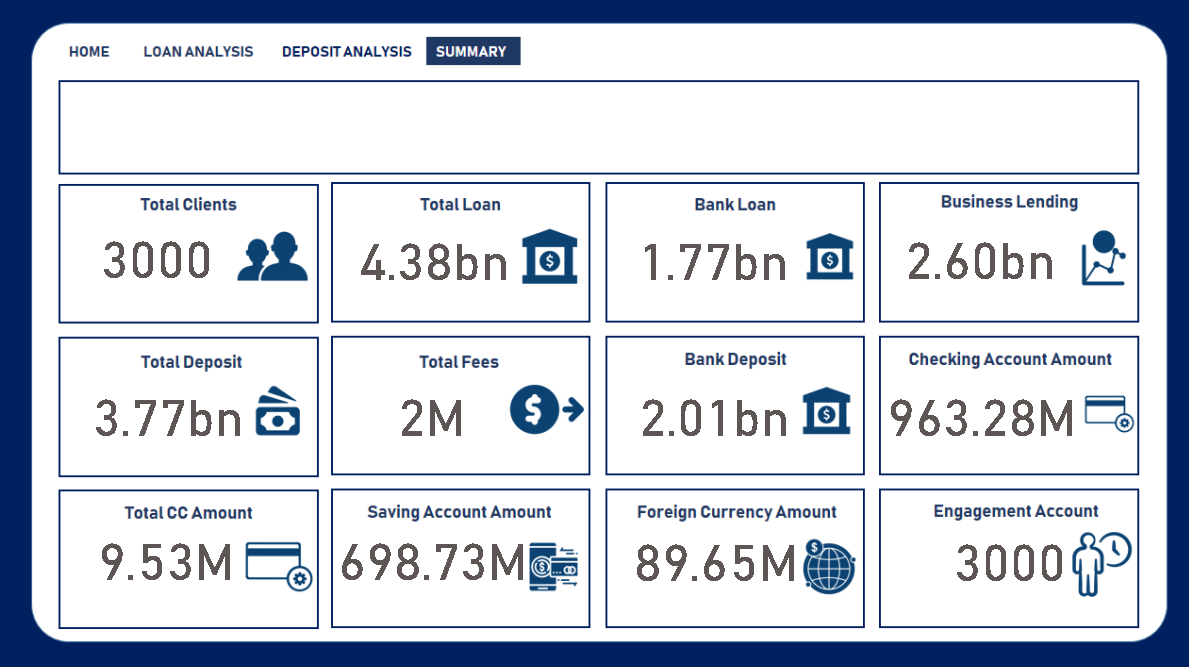

The dashboard page shown, as its layout file describes it:
{"tool":"powerbi","page":{"name":"summary","canvas":[1280,720],"ordinal":3},"visuals":[{"type":"card","fields":{"Values":["Sum(banking_pro customer.Bank Loans)"]},"box":[669,219.2,189,109.6],"z":1},{"type":"card","fields":{"Values":["Sum(banking_pro customer.Business Lending)"]},"box":[931.7,198.4,228.7,149.3],"z":2},{"type":"card","fields":{"Values":["banking_pro customer.total_deposit"]},"box":[54.8,374.2,262.7,132.3],"z":3},{"type":"card","fields":{"Values":["Sum(banking_pro customer.Bank Deposits)"]},"box":[633.1,374.2,262.7,132.3],"z":4},{"type":"card","fields":{"Values":["Sum(banking_pro customer.Checking Accounts)"]},"box":[941.1,374.2,211.7,132.3],"z":5},{"type":"card","fields":{"Values":["Sum(banking_pro customer.Saving Accounts)"]},"box":[359.1,527.2,211.7,132.3],"z":6},{"type":"card","fields":{"Values":["Sum(banking_pro customer.Credit Card Balance)"]},"box":[54.8,548,258.9,88.8],"z":7},{"type":"card","fields":{"Values":["Sum(banking_pro customer.Foreign Currency Account)"]},"box":[659.5,540.5,211.7,105.8],"z":8},{"type":"card","fields":{"Values":["CountNonNull(banking_pro customer.ï»¿Client ID)"]},"box":[30.2,219.2,287.2,105.8],"z":9},{"type":"card","fields":{"Values":["banking_pro customer.total_loan"]},"box":[317.5,226.8,300.5,94.5],"z":10},{"type":"card","fields":{"Values":["banking_pro customer.total_fees"]},"box":[400.6,389.3,128.5,100.2],"z":11},{"type":"card","fields":{"Values":["banking_pro customer.total_engaged"]},"box":[971.3,540.5,211.7,105.8],"z":12},{"type":"actionButton","box":[54.1,42.9,76.3,31.8],"z":13},{"type":"actionButton","box":[152.7,35,125.7,47.7],"z":14},{"type":"actionButton","box":[299,35,149.5,47.7],"z":15}]}

Visuals, with their boxes in screenshot pixels (x1, y1, x2, y2), scaled from the page's 1280x720 canvas onto the 1189x667 screenshot:
card - Sum(banking_pro customer.Bank Loans): <region>621, 203, 797, 305</region>
card - Sum(banking_pro customer.Business Lending): <region>865, 184, 1078, 322</region>
card - banking_pro customer.total_deposit: <region>51, 347, 295, 469</region>
card - Sum(banking_pro customer.Bank Deposits): <region>588, 347, 832, 469</region>
card - Sum(banking_pro customer.Checking Accounts): <region>874, 347, 1071, 469</region>
card - Sum(banking_pro customer.Saving Accounts): <region>334, 488, 530, 611</region>
card - Sum(banking_pro customer.Credit Card Balance): <region>51, 508, 291, 590</region>
card - Sum(banking_pro customer.Foreign Currency Account): <region>613, 501, 809, 599</region>
card - CountNonNull(banking_pro customer.ï»¿Client ID): <region>28, 203, 295, 301</region>
card - banking_pro customer.total_loan: <region>295, 210, 574, 298</region>
card - banking_pro customer.total_fees: <region>372, 361, 491, 453</region>
card - banking_pro customer.total_engaged: <region>902, 501, 1099, 599</region>
actionButton: <region>50, 40, 121, 69</region>
actionButton: <region>142, 32, 259, 77</region>
actionButton: <region>278, 32, 417, 77</region>
